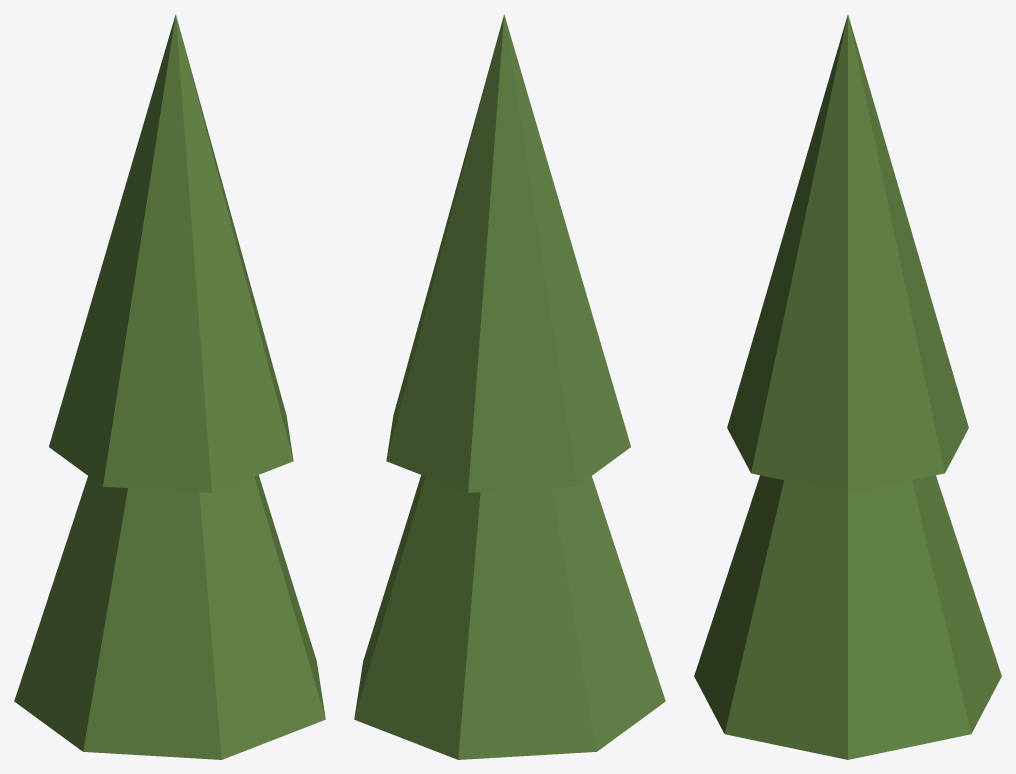
Rendered from pine_tree_b.glb.
The picture shows the model from 3 angles, left to right: view 1: azimuth 30°, elevation 25°; view 2: azimuth 150°, elevation 25°; view 3: azimuth 270°, elevation 25°; orthographic projection.
Visible parts, largest first — view 1: pine_tree_b; view 2: pine_tree_b; view 3: pine_tree_b.
Boxes of the visible parts, x1=… form: pine_tree_b: x1=14, y1=14, x2=325, y2=759; pine_tree_b: x1=354, y1=14, x2=665, y2=759; pine_tree_b: x1=694, y1=15, x2=1001, y2=759.
Bounding box in the file's own units: 3.5 × 8.5 × 3.5.
